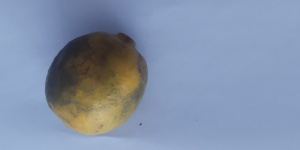BAD: (43, 29, 149, 136)
